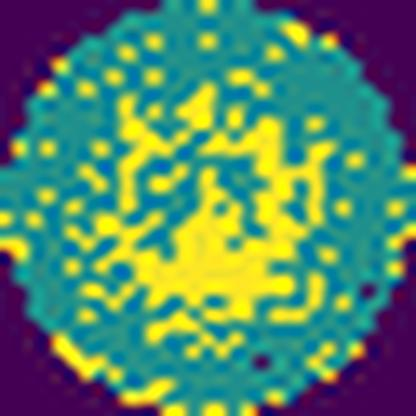Donut: (60, 62, 343, 366)
